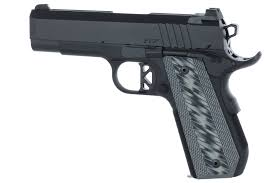gun: (25, 3, 256, 179)
